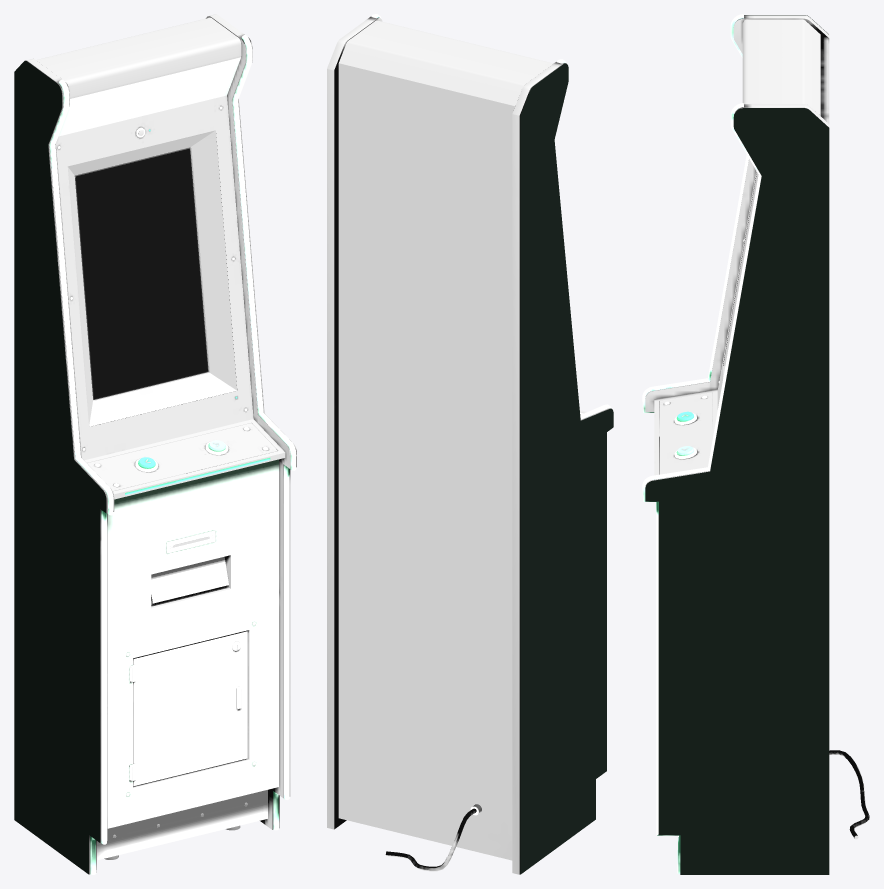
The model's file is mach-berry-v2.glb.
3 views of the same model, side by side, from view 1: azimuth 30°, elevation 25°; view 2: azimuth 150°, elevation 25°; view 3: azimuth 270°, elevation 25° (orthographic).
Visible parts, largest first — view 1: body, side_art_l, screen, glass, trim, metal; view 2: body, side_art_l, cable; view 3: side_art_r, body, trim, cable.
Part boxes in pixels (box(x1,y1,x2,y2)): body: box(26, 14, 296, 874); side_art_l: box(14, 60, 106, 874); screen: box(75, 148, 207, 399); glass: box(76, 149, 208, 399); trim: box(49, 35, 296, 874); metal: box(58, 106, 268, 859); body: box(327, 16, 610, 874); side_art_l: box(520, 63, 613, 874); cable: box(385, 808, 476, 871); side_art_r: box(645, 108, 829, 874); body: box(645, 15, 829, 487); trim: box(642, 14, 761, 873); cable: box(829, 750, 869, 839).
Bounding box in the file's own units: 0.503 × 1.94 × 0.5192.
Materials: 19 (6 with a texture image).
